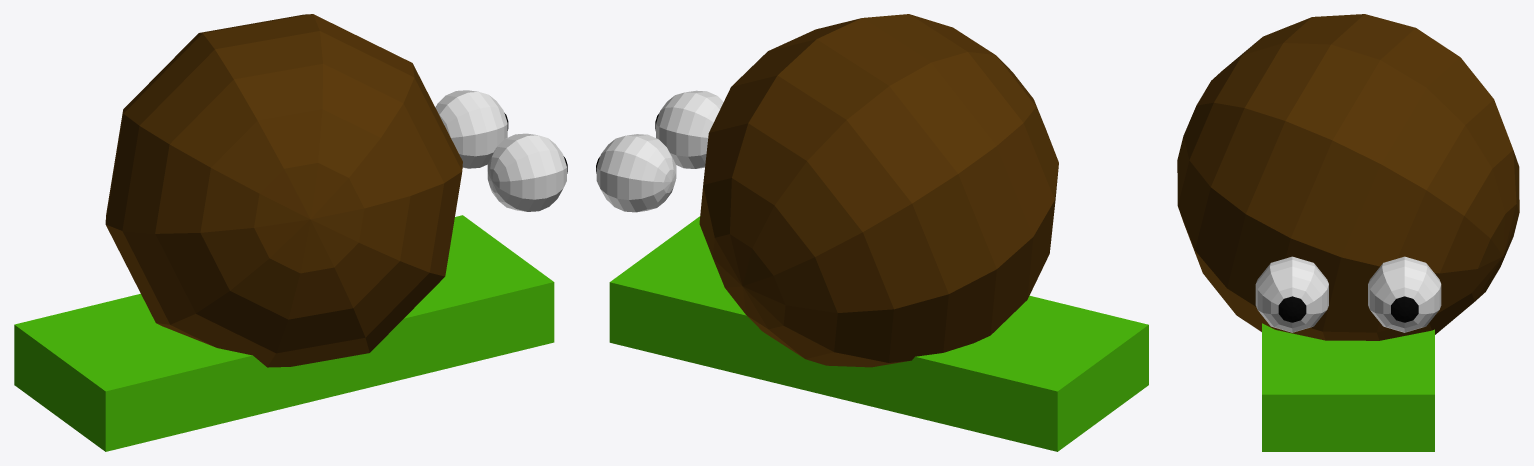
The model's file is snail.fbx.
3 views of the same model, side by side, from view 1: azimuth 30°, elevation 25°; view 2: azimuth 150°, elevation 25°; view 3: azimuth 270°, elevation 25° (orthographic). The views are drawn at different scales.
Visible parts, largest first — view 1: shell, snail, eyeL, eyeR; view 2: shell, snail, eyeR, eyeL; view 3: shell, snail, eyeL, eyeR, eyePupilL, eyePupilR.
Boxes of the visible parts, <box> form: shell: <box>105,14,462,367</box>; snail: <box>14,215,554,451</box>; eyeL: <box>487,133,566,211</box>; eyeR: <box>435,90,507,168</box>; shell: <box>699,14,1058,367</box>; snail: <box>609,216,1148,451</box>; eyeR: <box>596,134,676,212</box>; eyeL: <box>656,90,723,168</box>; shell: <box>1177,14,1519,340</box>; snail: <box>1262,323,1434,451</box>; eyeL: <box>1255,256,1328,332</box>; eyeR: <box>1368,256,1441,332</box>; eyePupilL: <box>1278,296,1306,322</box>; eyePupilR: <box>1391,296,1418,322</box>.
Bounding box in the file's own units: 3 × 2.01 × 1.98.
